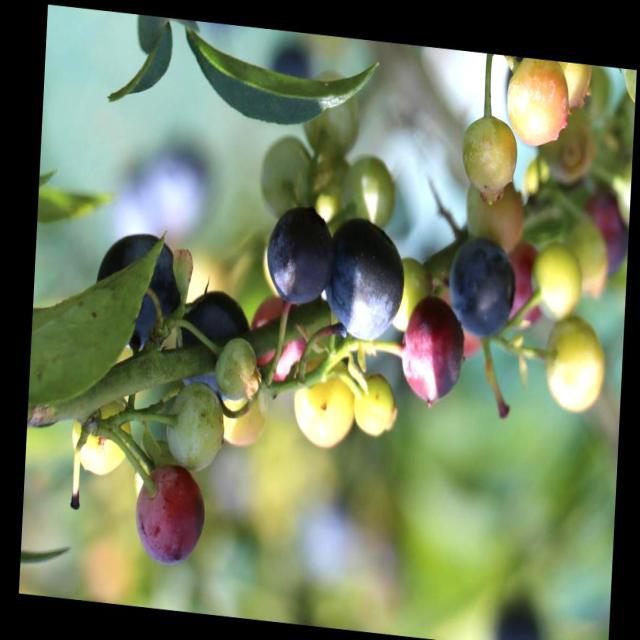blueberry: (323, 208, 407, 346), (90, 228, 178, 358), (176, 288, 253, 408), (263, 200, 339, 312), (446, 231, 519, 347)
blueberry-halfripe: (129, 465, 209, 574), (396, 296, 466, 406), (248, 288, 310, 387)
blueberry-unripe: (506, 55, 572, 154), (161, 380, 231, 473), (302, 63, 368, 153), (542, 318, 604, 413), (528, 232, 587, 331), (458, 112, 518, 206), (295, 366, 357, 456), (337, 144, 397, 235), (67, 399, 132, 480), (258, 132, 314, 215), (216, 377, 275, 448), (349, 368, 399, 438), (210, 332, 254, 408)
